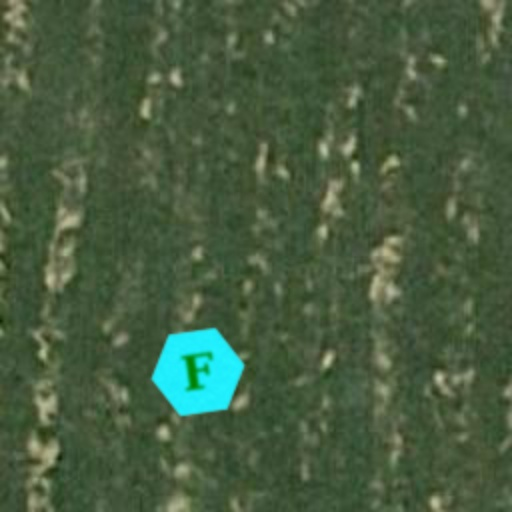hexagon: (144, 318, 252, 426)
